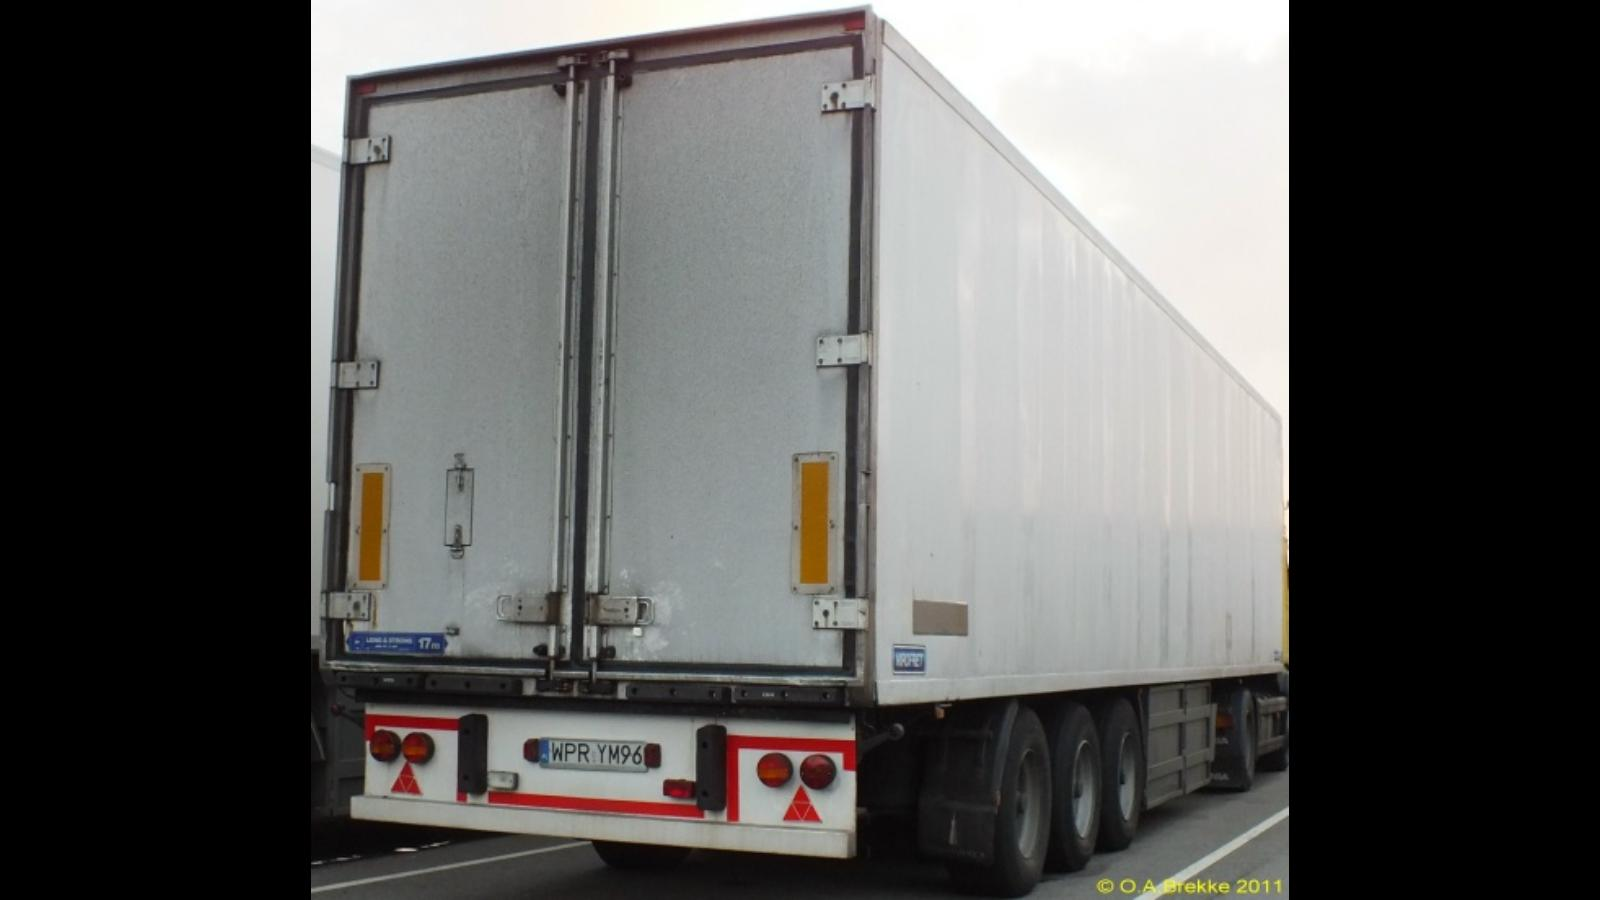plates: (540, 736, 648, 772)
